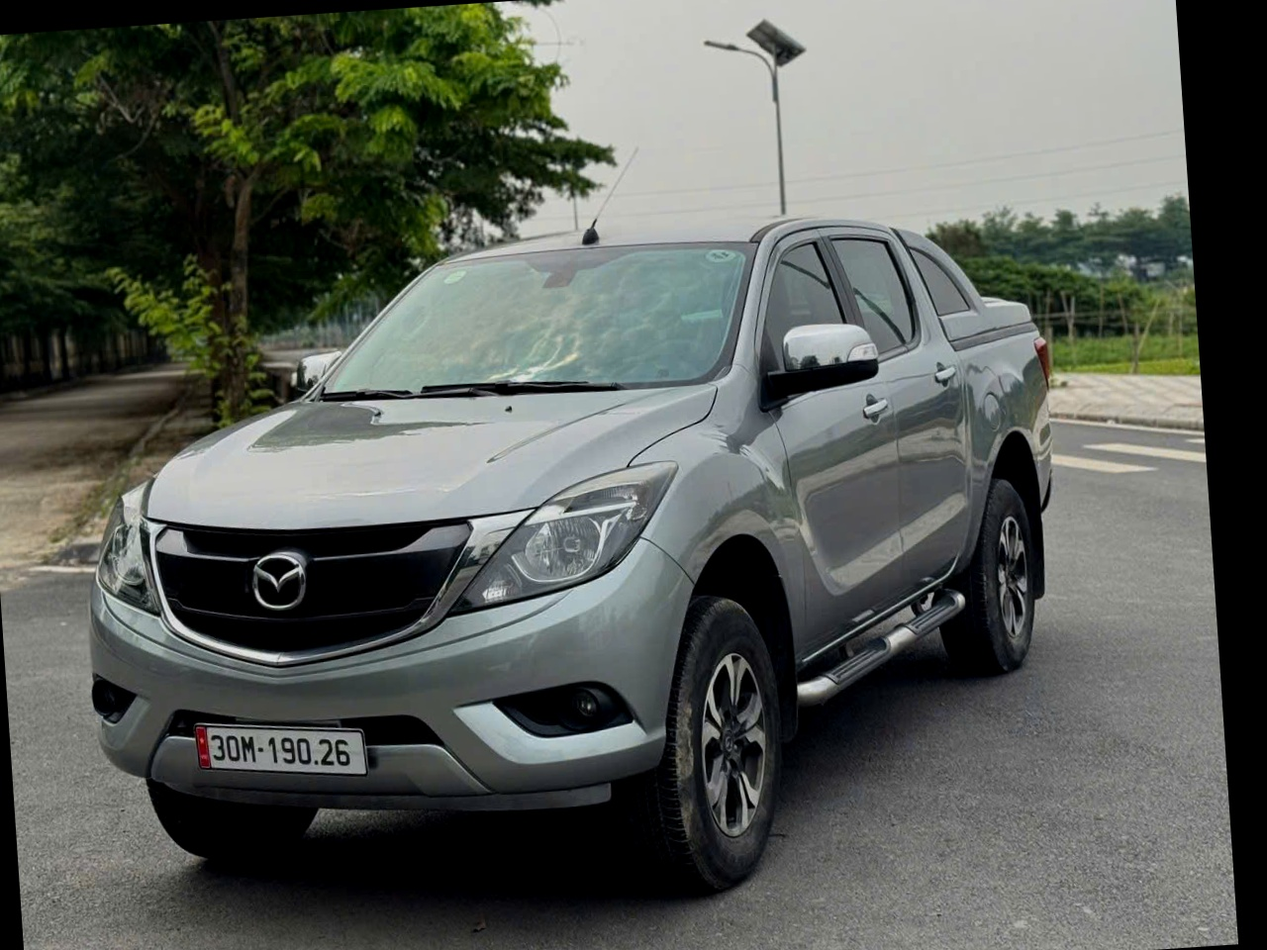Bien-so: (205, 713, 369, 783)
